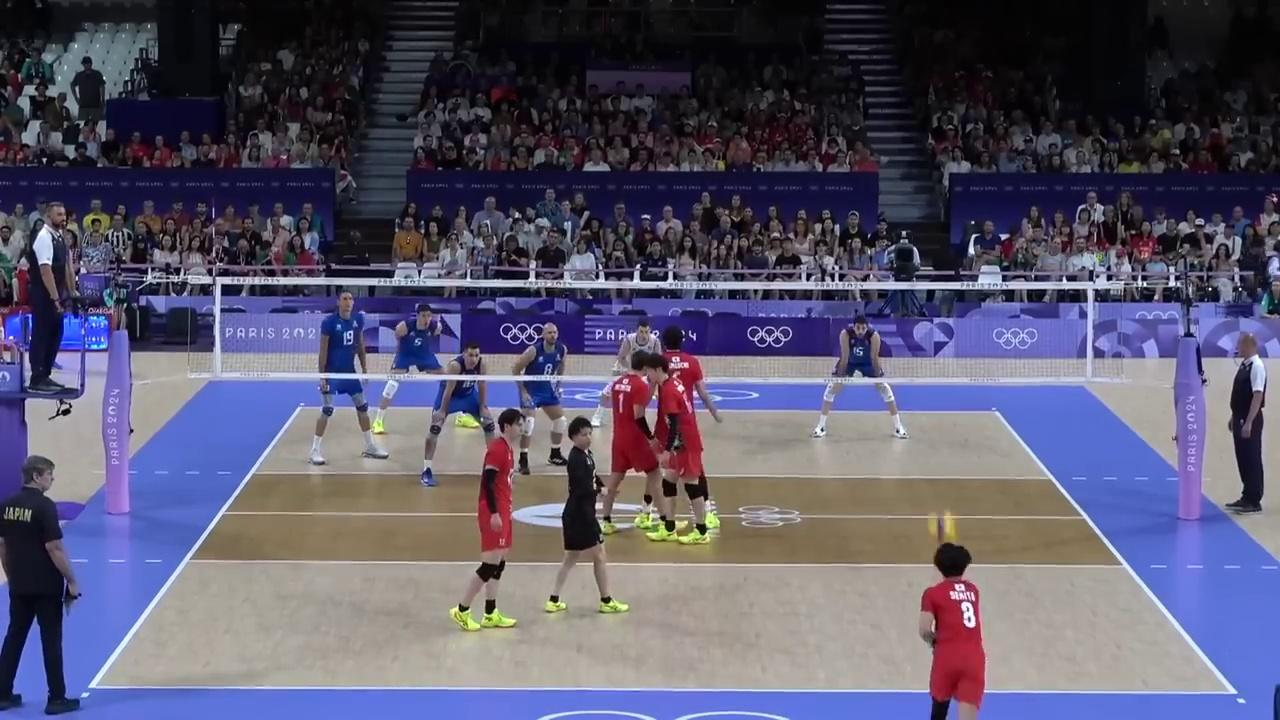ball: (932, 516, 957, 544)
